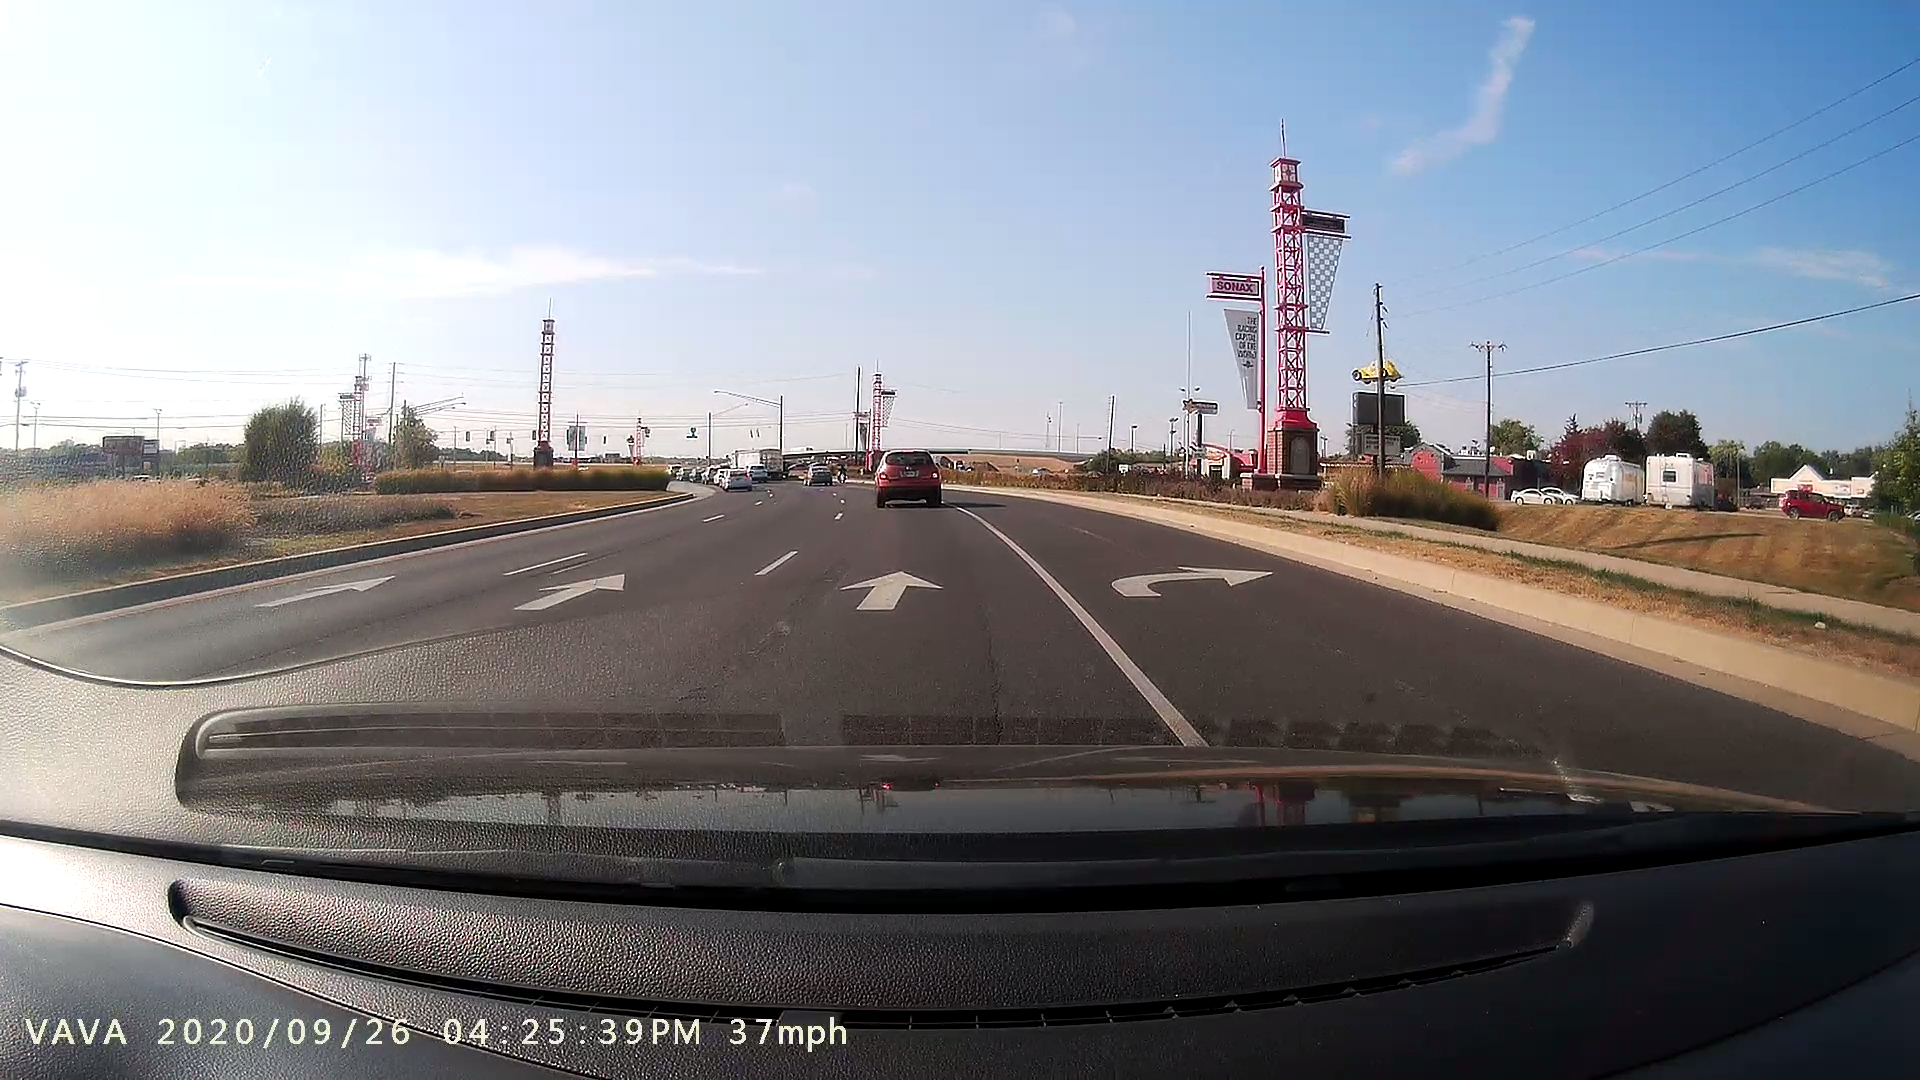right_turn: (1106, 550, 1280, 601)
straight: (831, 554, 945, 622), (517, 570, 638, 620)
